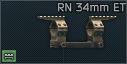Recknagel Era-Tac 34mm ring scope mount: (0, 0, 127, 64)
